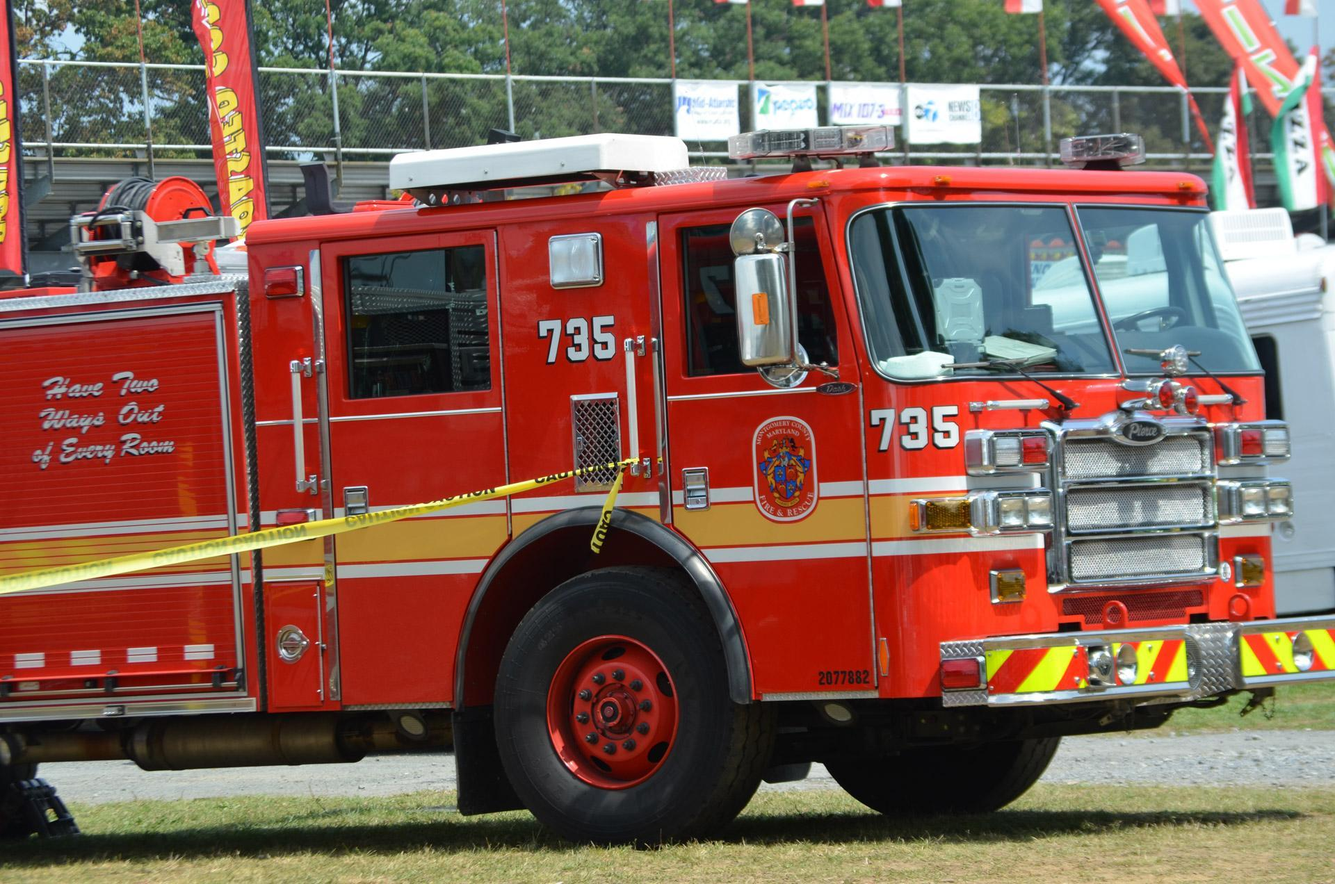Fire-engine: (0, 124, 1334, 848)
